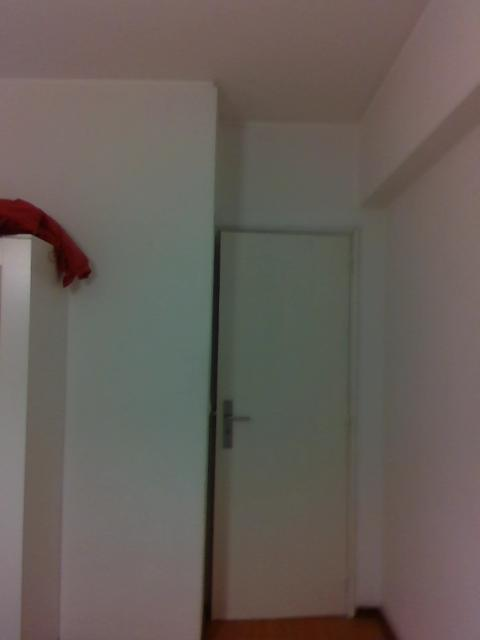door: (213, 232, 351, 620)
